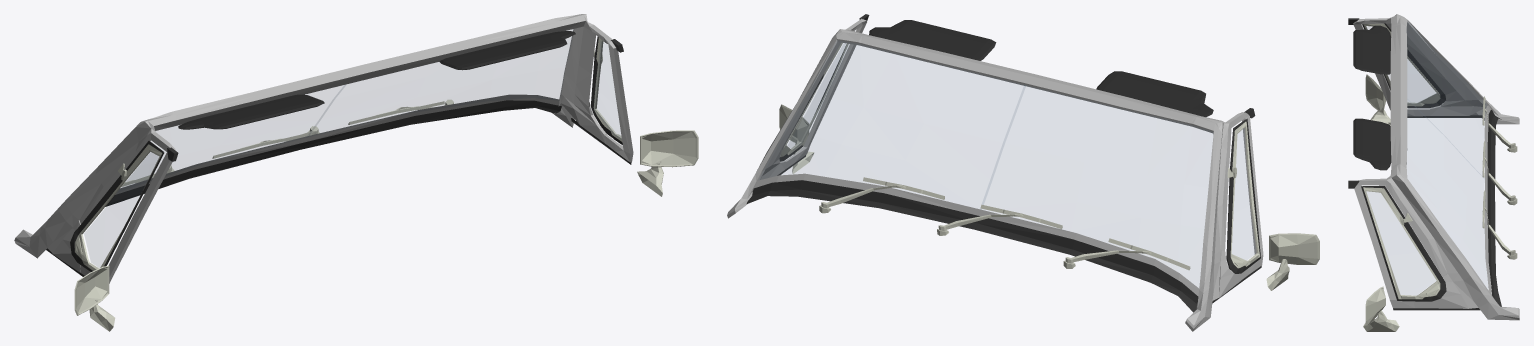
File: windshield.dae
The picture shows the model from 3 angles, left to right: view 1: azimuth 30°, elevation 25°; view 2: azimuth 150°, elevation 25°; view 3: azimuth 270°, elevation 25°; orthographic projection. The views are drawn at different scales.
Parts seen in each view (by area): view 1: window_frame, windshield, sun_sheild, mirrors, windscreen_rubber_trim, pillar_gasket, pillar_crome_trim, window_wipers; view 2: windshield, window_frame, windscreen_rubber_trim, sun_sheild, mirrors, window_wipers, pillar_crome_trim, pillar_gasket; view 3: windshield, window_frame, sun_sheild, windscreen_rubber_trim, pillar_gasket, mirrors, pillar_crome_trim, window_wipers.
Part boxes in pixels (x1=…): window_frame: x1=14, y1=14, x2=633, y2=283; windshield: x1=84, y1=29, x2=621, y2=267; sun_sheild: x1=178, y1=31, x2=575, y2=129; mirrors: x1=74, y1=130, x2=698, y2=331; windscreen_rubber_trim: x1=46, y1=100, x2=631, y2=276; pillar_gasket: x1=70, y1=37, x2=623, y2=271; pillar_crome_trim: x1=75, y1=37, x2=622, y2=270; window_wipers: x1=121, y1=99, x2=453, y2=186; windshield: x1=759, y1=40, x2=1255, y2=287; window_frame: x1=727, y1=18, x2=1263, y2=331; windscreen_rubber_trim: x1=746, y1=155, x2=1261, y2=312; sun_sheild: x1=869, y1=20, x2=1213, y2=116; mirrors: x1=779, y1=104, x2=1319, y2=290; window_wipers: x1=819, y1=177, x2=1190, y2=270; pillar_crome_trim: x1=780, y1=31, x2=1260, y2=268; pillar_gasket: x1=779, y1=14, x2=1260, y2=273; windshield: x1=1366, y1=22, x2=1487, y2=294; window_frame: x1=1353, y1=14, x2=1519, y2=320; sun_sheild: x1=1353, y1=25, x2=1391, y2=170; windscreen_rubber_trim: x1=1393, y1=110, x2=1501, y2=310; pillar_gasket: x1=1348, y1=18, x2=1446, y2=301; mirrors: x1=1363, y1=74, x2=1399, y2=331; pillar_crome_trim: x1=1363, y1=23, x2=1440, y2=299; window_wipers: x1=1482, y1=96, x2=1517, y2=259.
Size of the model in its own units: 1.65 by 0.524 by 0.4665.
